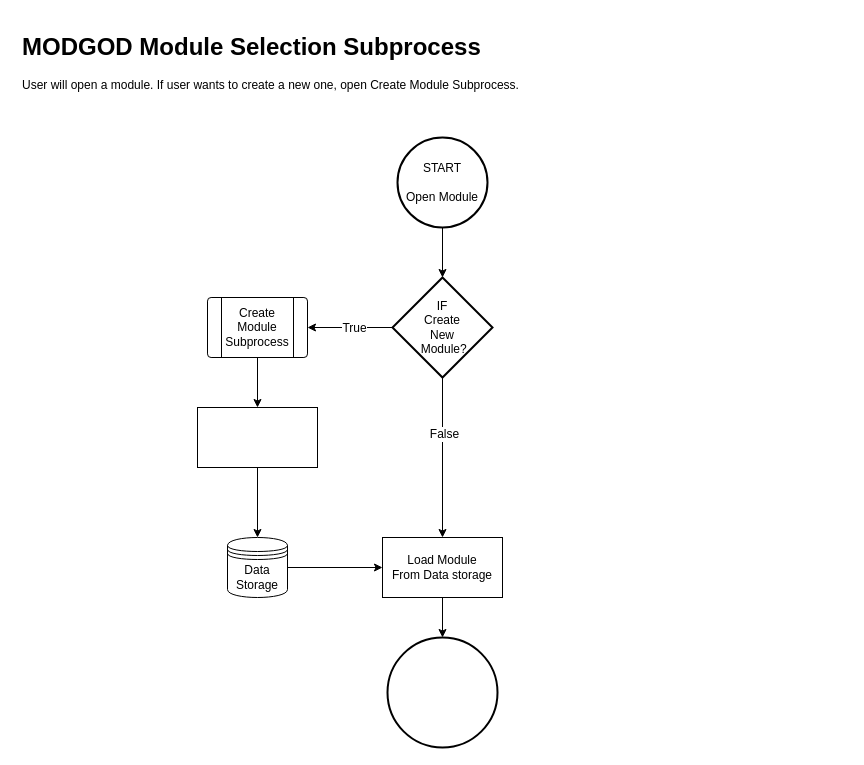
Some shapes in this 864 by 765 pixel diagram are drawn without their labels. Here are the shapes that lost their labels. From the top down, the centre of each, then its label:
point (257, 437): Save Module To Data Store
point (442, 692): STOP Close Module Selection Process
